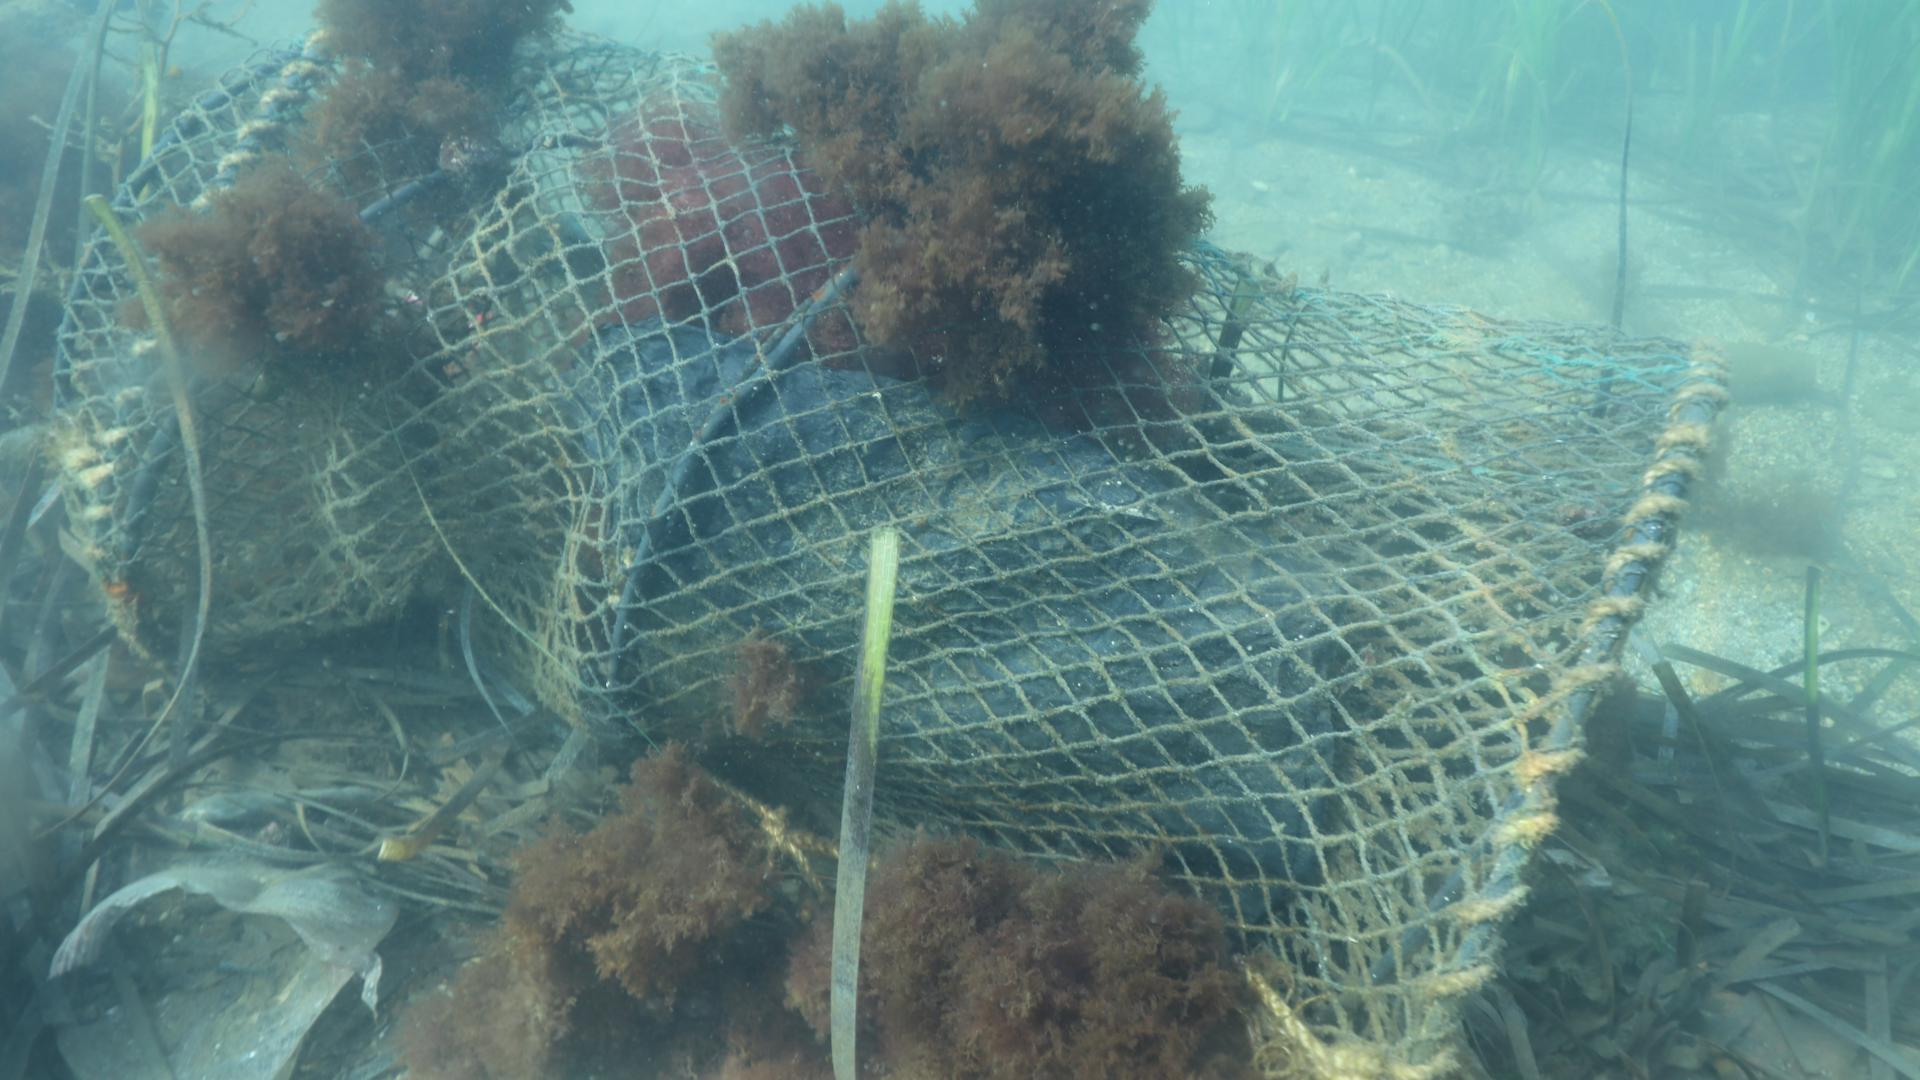spring fish trap: (40, 18, 1729, 1072)
